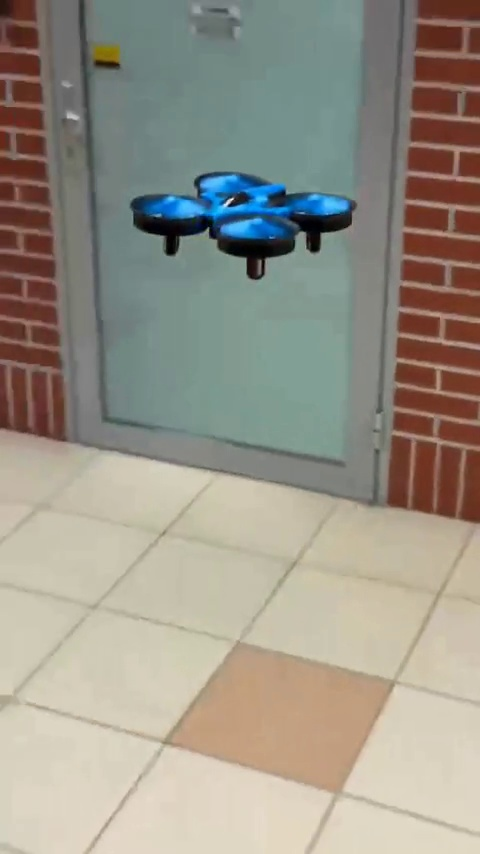drone: (137, 168, 355, 277)
